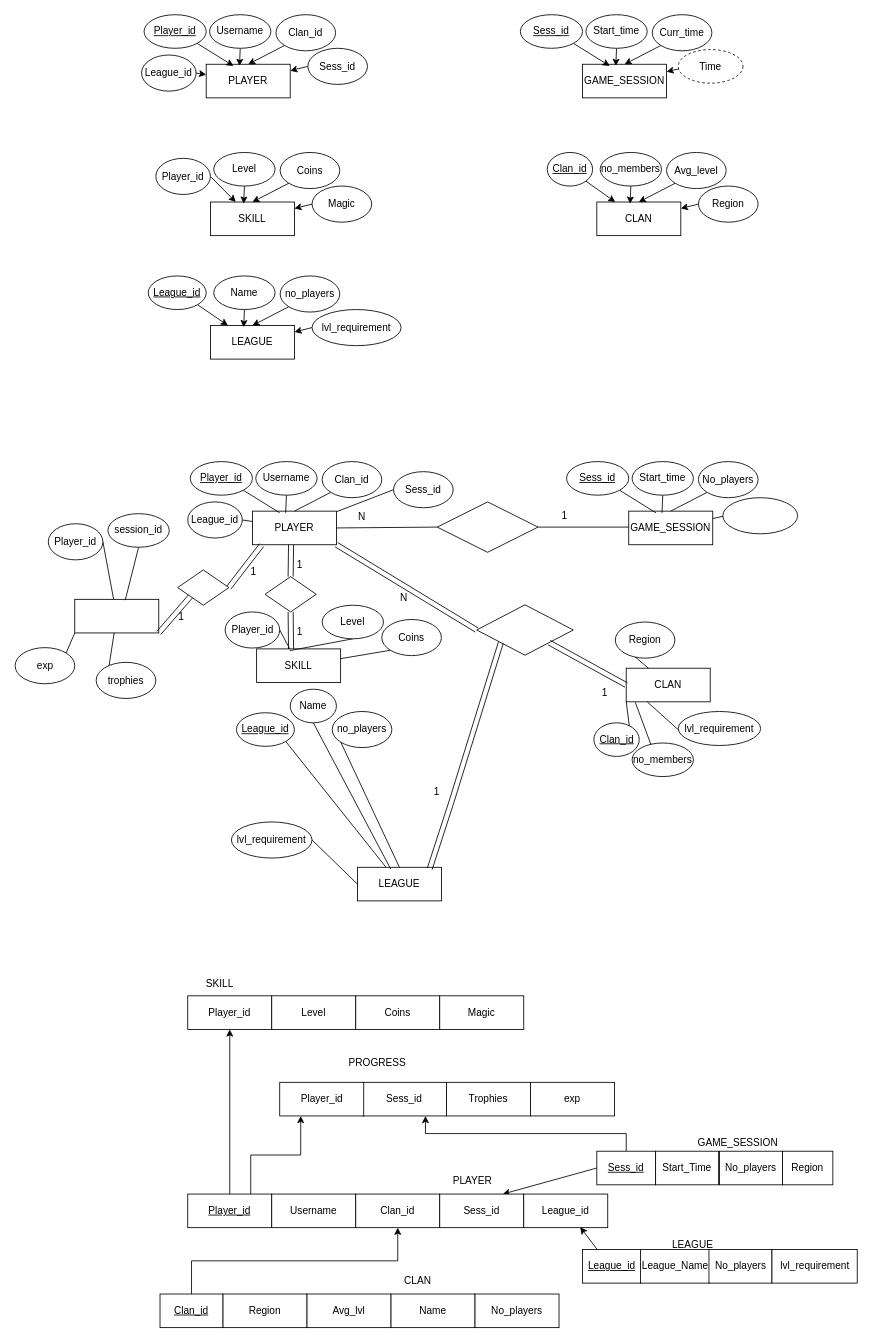
This 872x1342 diagram has some shape labels left out. Here are the shapes that lost their labels. From the top down, the box of each, then its label:
(436, 501, 538, 552): JOINS
(722, 497, 798, 534): server_region
(177, 569, 229, 605): GAINS
(264, 576, 316, 612): HAS
(74, 598, 159, 633): PROGRESS_408
(476, 604, 573, 655): BELONGS_TO
